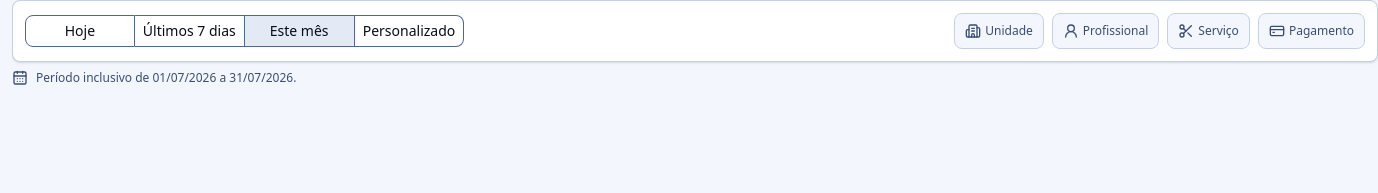
Test: ReportingPage › opens Personalizado from a preset without changing the canonical range
Expected: the field labelled "Data inicial" is not shown
Click the button "Personalizado" at (410, 31), box [355, 15, 464, 47]
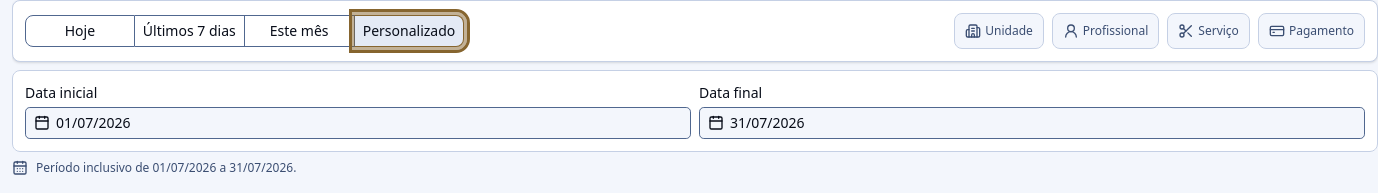
Expected: the text "Período inclusivo de 01/07/2026 a 31/07/2026." is shown, [12, 159, 296, 176]
Now the button named "Data inicial" reads "01/07/2026", box [25, 107, 691, 139]
Now the button named "Data final" reads "31/07/2026", box [699, 107, 1365, 139]
